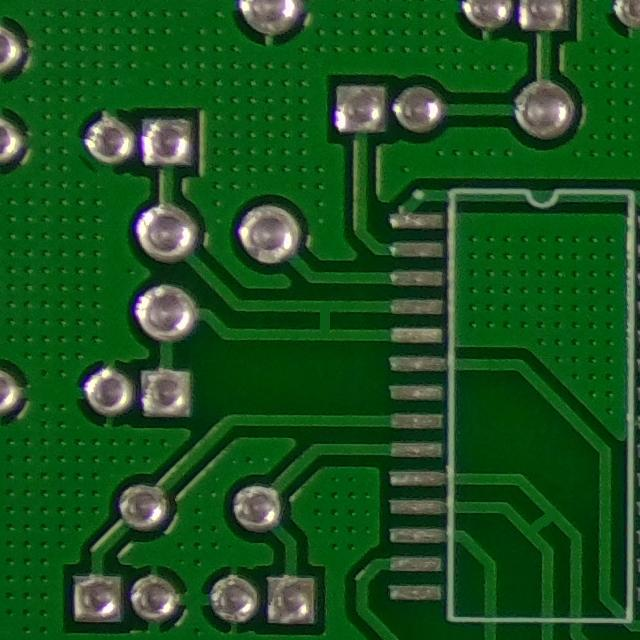short: (285, 289, 355, 351)
